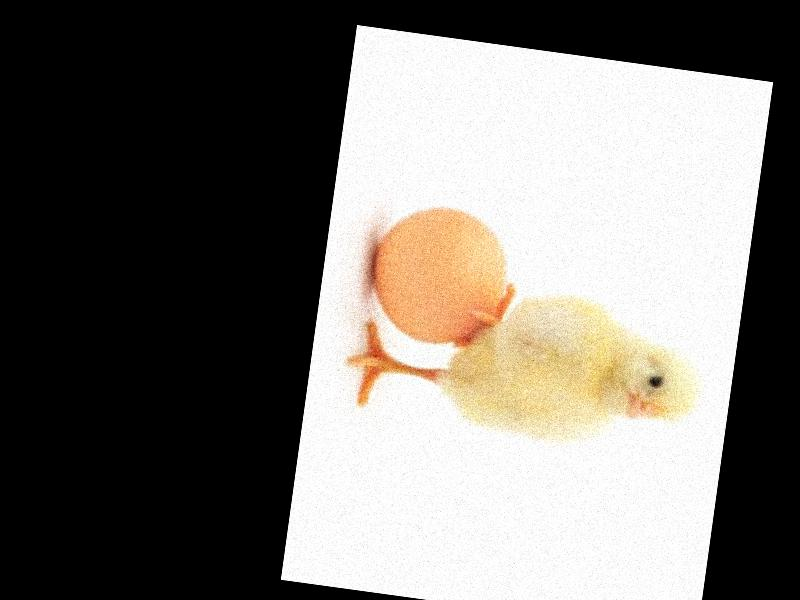Eggs: (365, 197, 521, 355)
